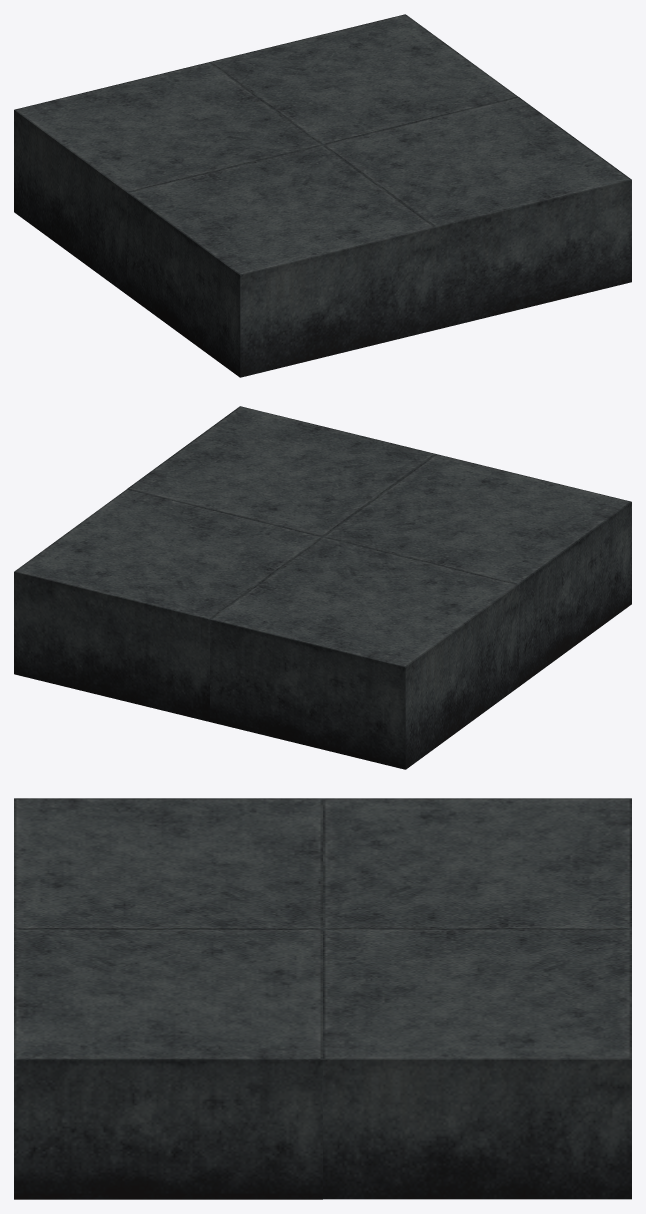
Rendered from SM_EC_ConcreteBlock_1.fbx.
3 views of the same model, one above another, from view 1: azimuth 30°, elevation 25°; view 2: azimuth 150°, elevation 25°; view 3: azimuth 270°, elevation 25° (orthographic). The views are drawn at different scales.
Visible parts, largest first — view 1: SM_EC_ConcreteBlock_1; view 2: SM_EC_ConcreteBlock_1; view 3: SM_EC_ConcreteBlock_1.
Boxes of the visible parts, left/top/right/bottom form: SM_EC_ConcreteBlock_1: left=14, top=14, right=631, bottom=377; SM_EC_ConcreteBlock_1: left=14, top=406, right=631, bottom=769; SM_EC_ConcreteBlock_1: left=14, top=798, right=631, bottom=1199.
Size of the model in its own units: 4 by 4 by 1.
